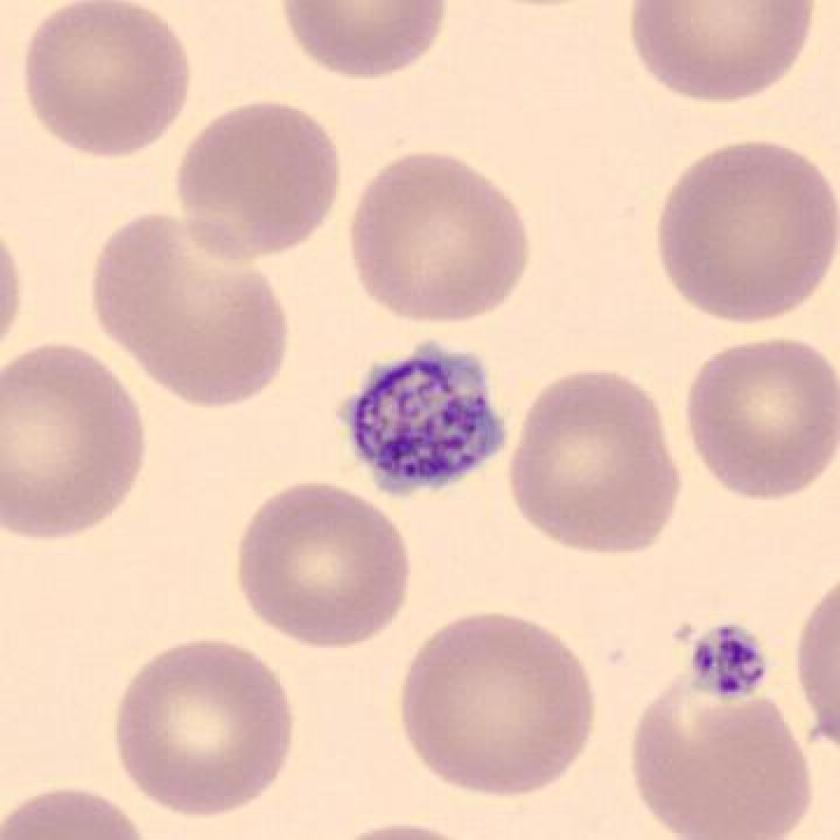platelets: (335, 337, 517, 499), (676, 621, 774, 707)
